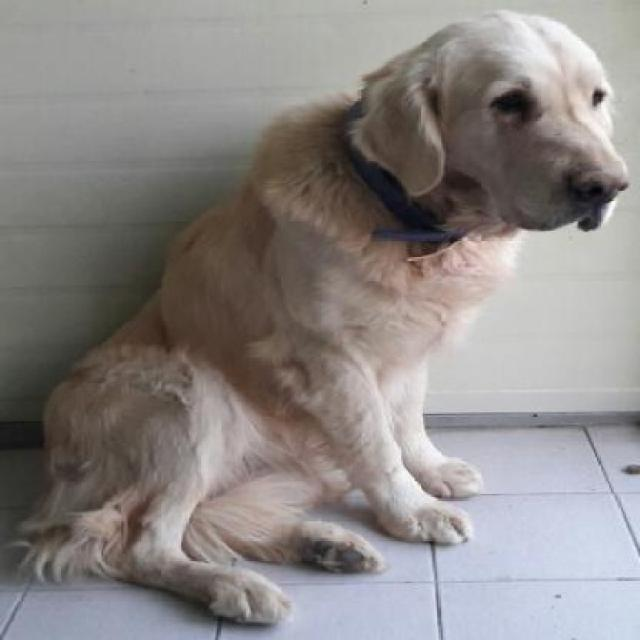Dog: (1, 6, 632, 631)
